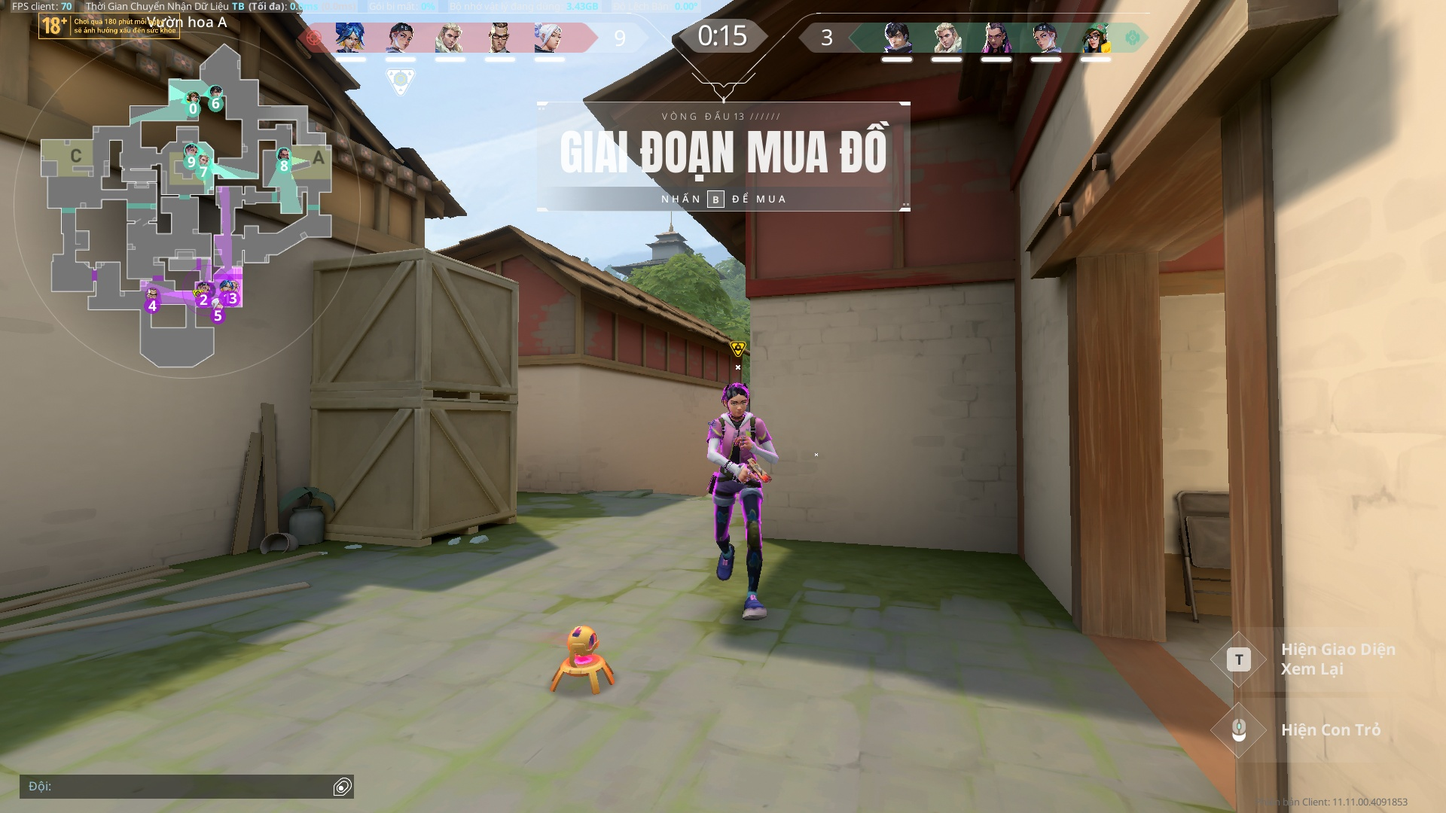body: (712, 411, 764, 462)
head: (721, 382, 749, 415)
